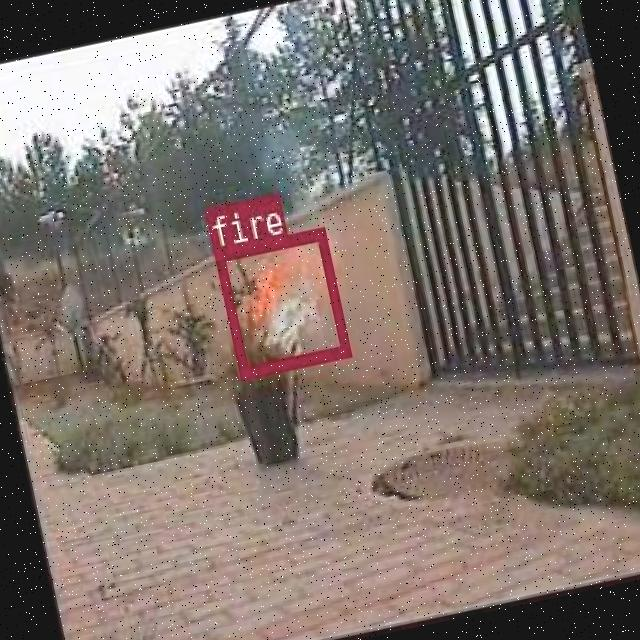fire: (211, 226, 348, 376)
